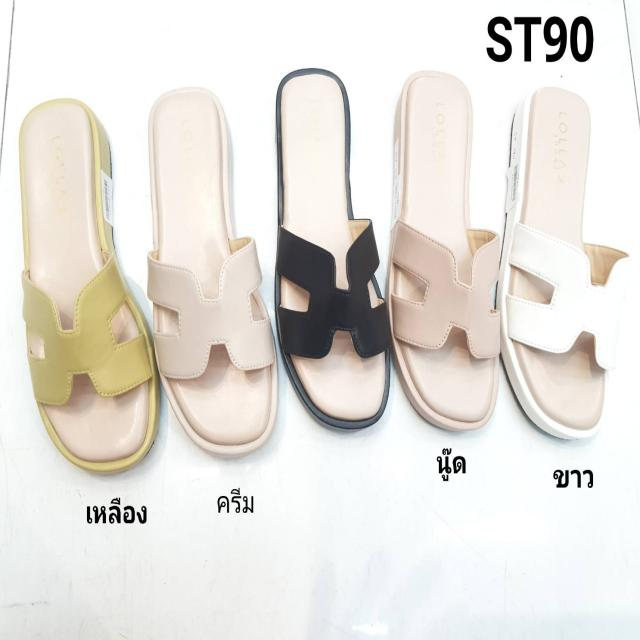black: (269, 67, 392, 429)
cream: (150, 83, 273, 453)
nood: (387, 66, 501, 424)
white: (505, 92, 617, 440)
yellow: (9, 102, 159, 471)
